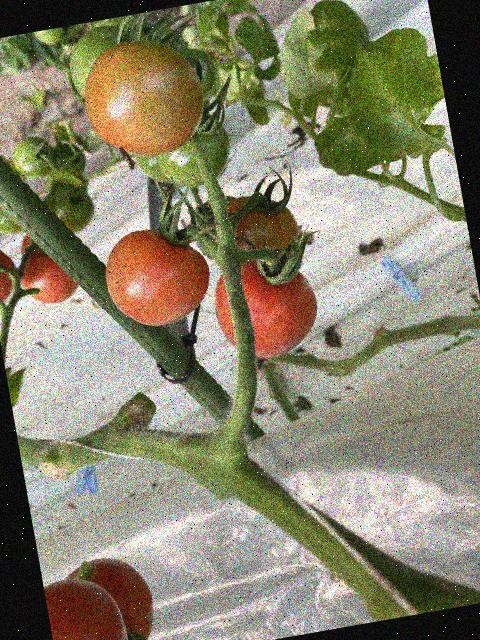l_fully_ripened: (207, 248, 326, 365), (97, 218, 216, 333), (61, 549, 160, 640), (42, 569, 129, 640), (17, 244, 82, 309), (0, 237, 22, 305)
l_green: (149, 107, 236, 192), (63, 19, 148, 103), (41, 179, 99, 237), (175, 42, 221, 107), (10, 133, 59, 183), (0, 187, 24, 237)
l_half_ripened: (75, 28, 213, 166), (210, 187, 305, 271)
